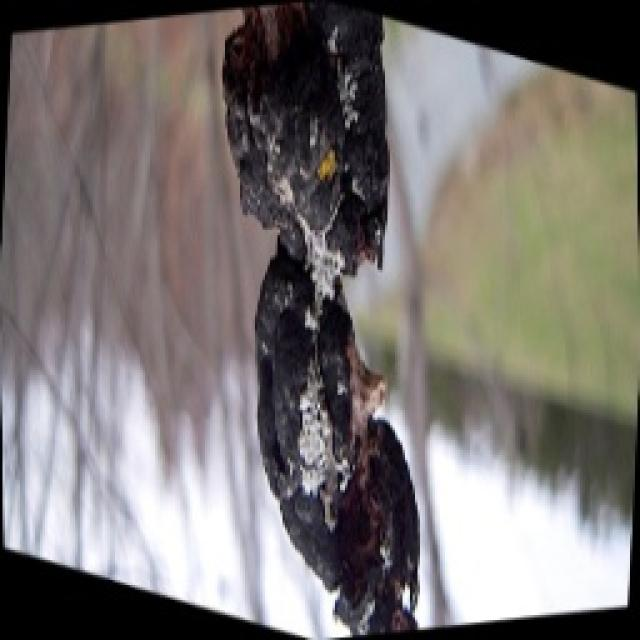Black_knot: (218, 0, 422, 635)
